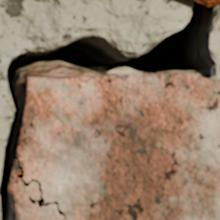brick: (18, 74, 219, 219), (9, 163, 62, 219), (198, 0, 219, 5)
crack: (0, 0, 219, 219)
